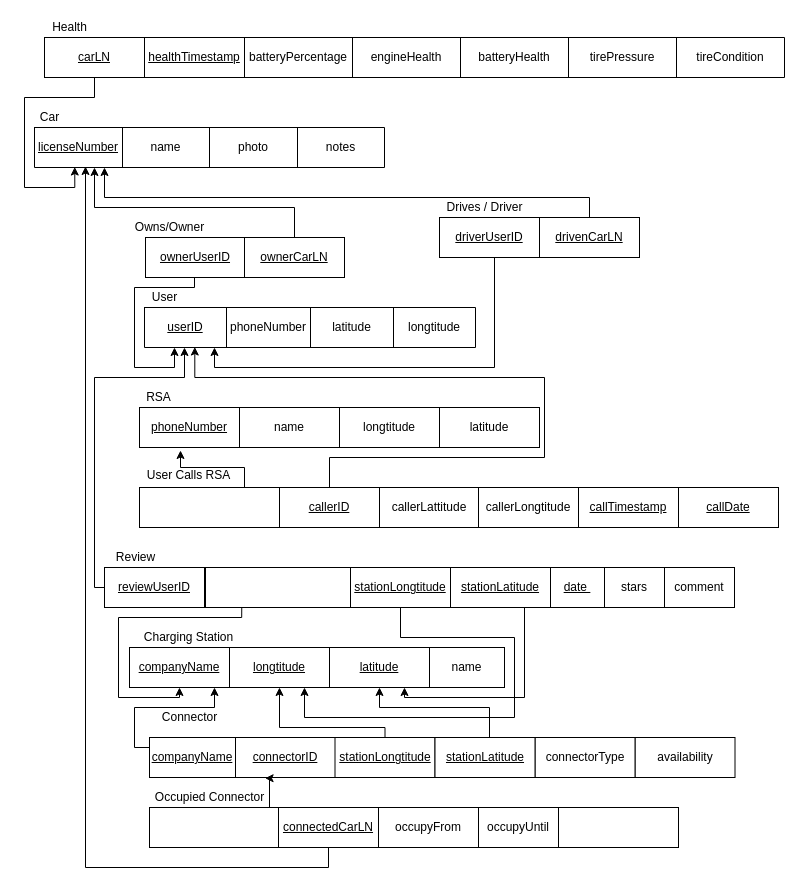
The diagram is 802 pixels wide and 893 high, and some of its shapes have lost their labels. Each missing label, with the centre of its shape:
"callRSAphoneNumber" belongs at point (209, 507).
"occupiedConnectorID" belongs at point (213, 827).
"occupyEstimatedUntil" belongs at point (618, 827).
"reviewedCompanyName" belongs at point (277, 587).
